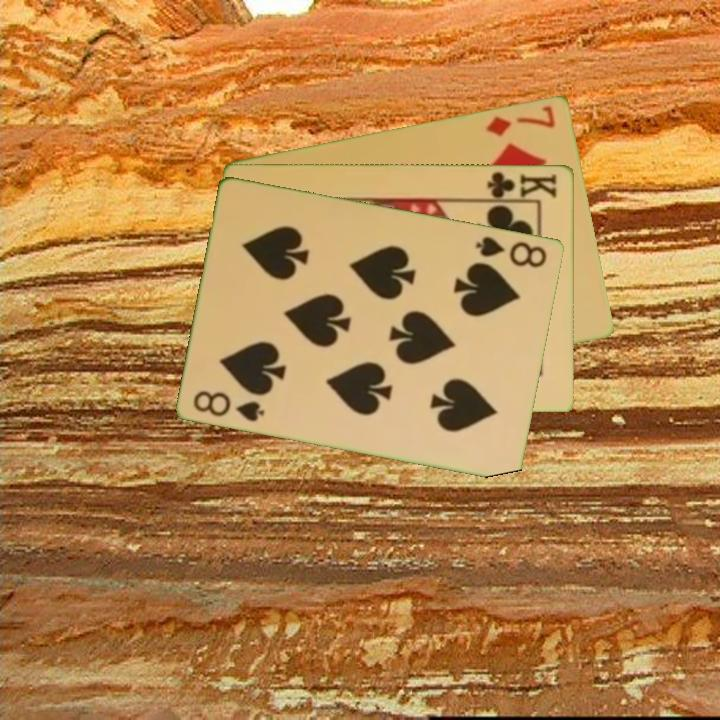7d: (482, 101, 559, 139)
8s: (472, 232, 551, 270), (190, 386, 268, 424)
Kc: (480, 168, 560, 202)
